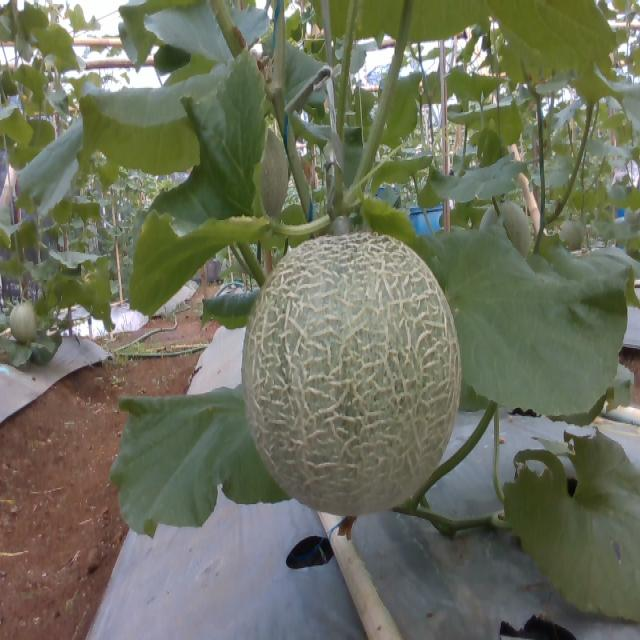melon: (243, 233, 461, 515)
